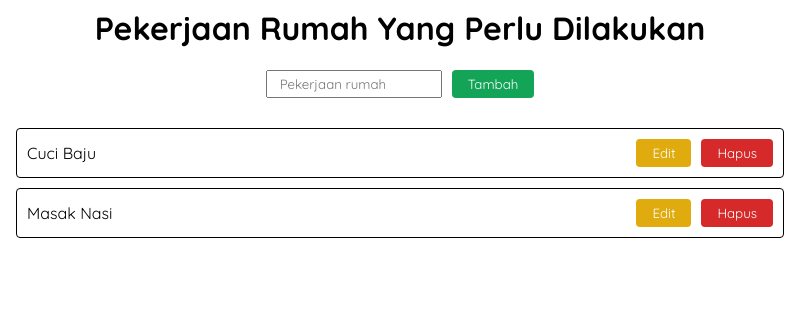
Test: create successful
Type "Mengepel lantai" into the field with placeholder "Pekerjaan rumah".
click(354, 84); type("Mengepel lantai")  # box [266, 70, 442, 98]
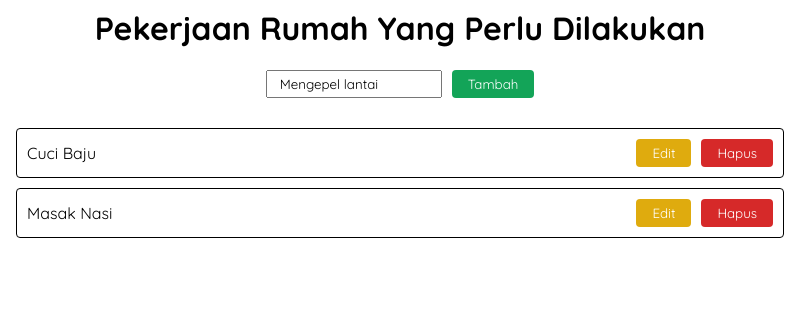
Click the button "Tambah".
click(493, 84)  # box [452, 70, 534, 98]
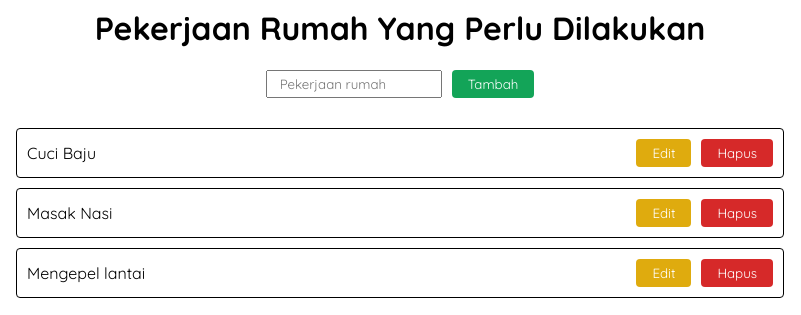
Check: the button "Mengepel lantai Edit Hapus" is shown, box [16, 248, 784, 298]
